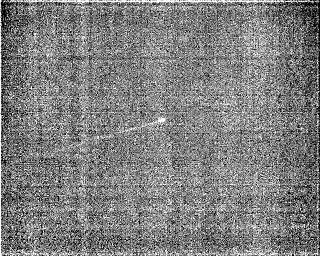AIRPLANE: (88, 115, 167, 143)
